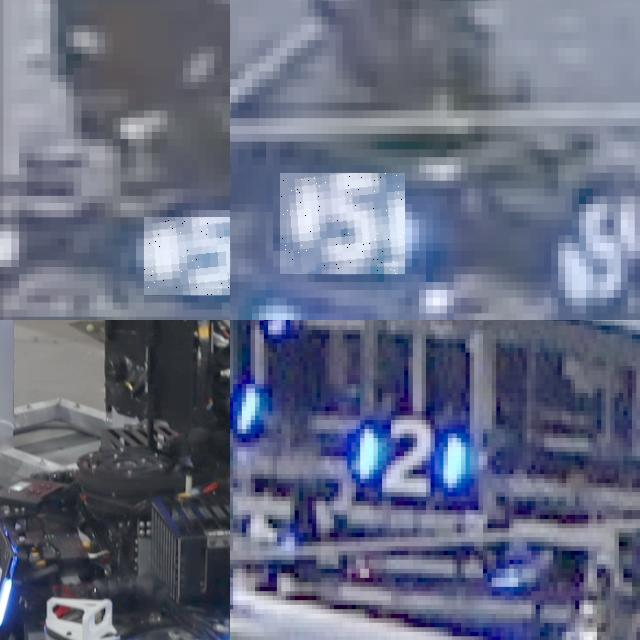B2: (356, 411, 465, 501)
B5: (280, 173, 405, 274), (558, 180, 640, 305), (143, 217, 230, 295)
Bs: (0, 529, 18, 629)
